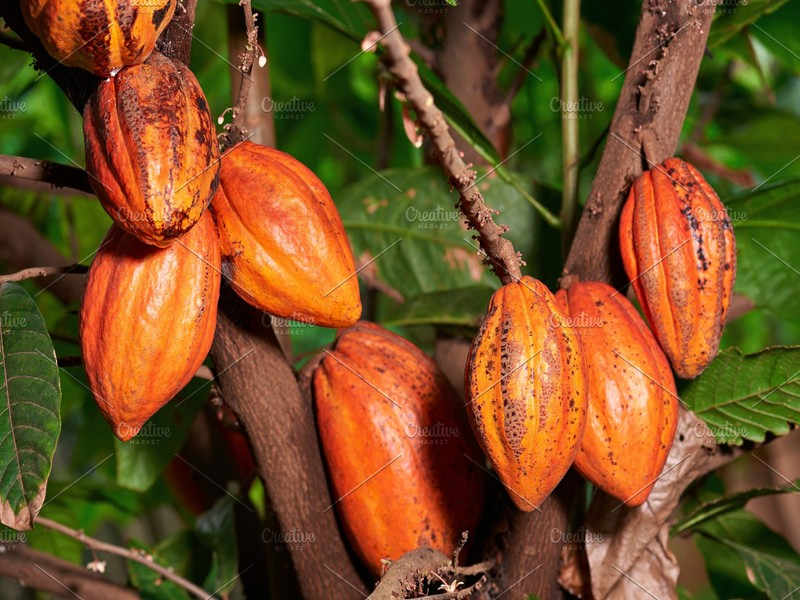Cacaopod: (466, 277, 586, 513), (619, 157, 723, 379)
